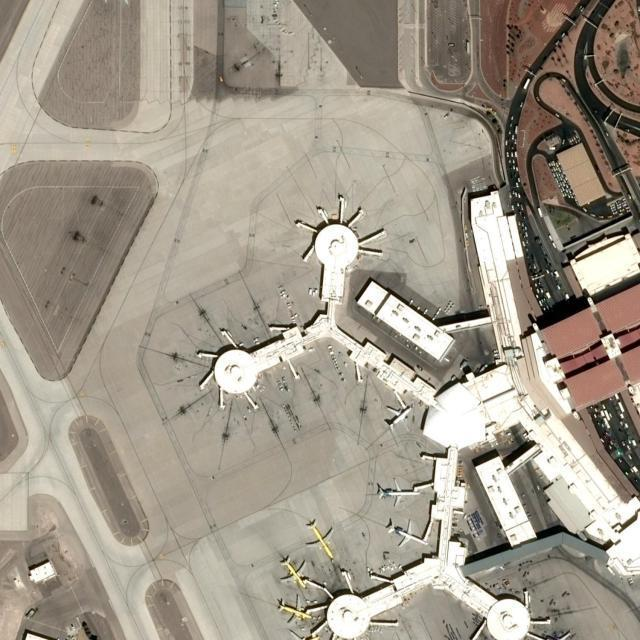Aircraft: (376, 478, 420, 506), (387, 518, 427, 548), (305, 519, 334, 560), (276, 594, 312, 624), (279, 555, 309, 589), (383, 402, 413, 432), (280, 629, 320, 640), (545, 630, 575, 640)
